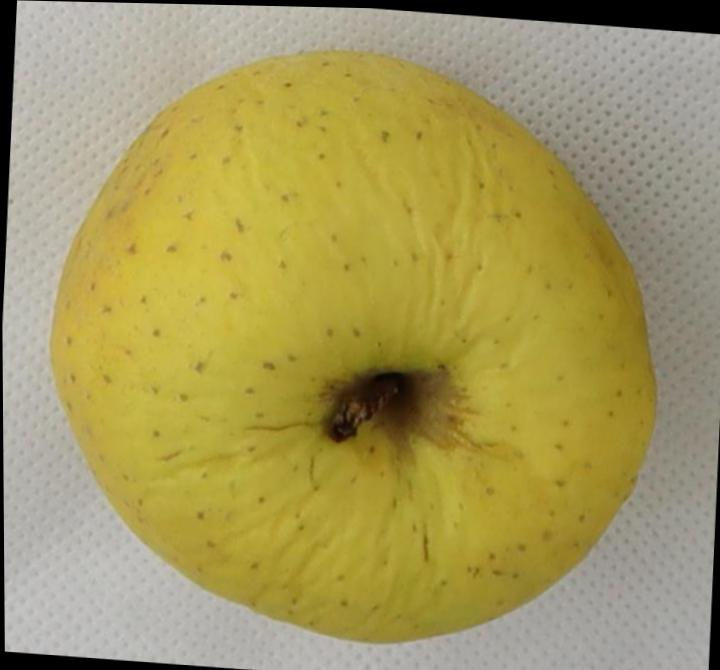apple: (52, 52, 657, 643)
rot_mold_decay: (225, 56, 655, 640)
